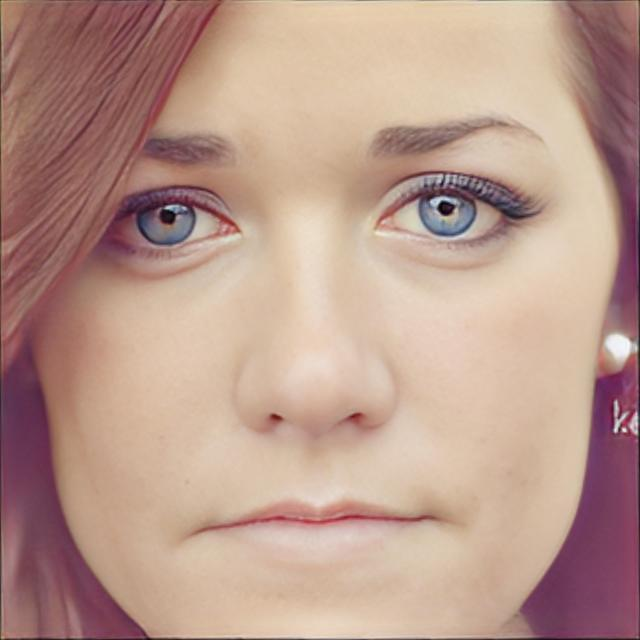sad: (29, 0, 626, 640)
